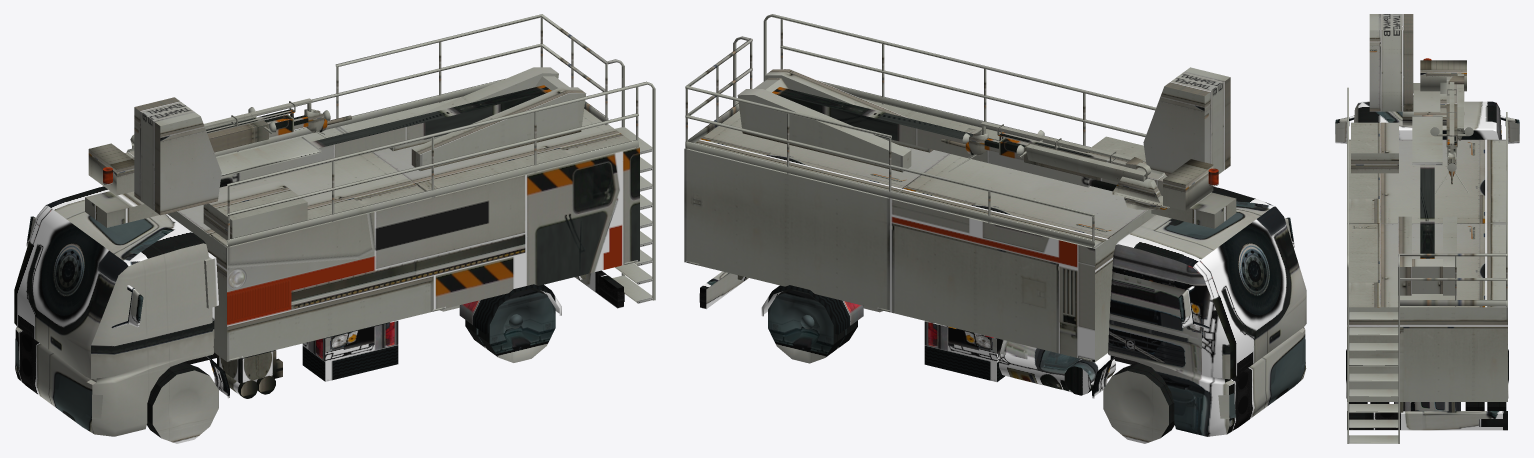
Rendered from volvo_deicing_truck.glb.
3 renders of one model, left to right at view 1: azimuth 30°, elevation 25°; view 2: azimuth 150°, elevation 25°; view 3: azimuth 270°, elevation 25°, orthographic. The views are drawn at different scales.
Parts seen in each view (by area): view 1: Cube.005, Cube.003, Cube.030, lift_06, Cube.017, lift_01, Cylinder.008, Cube.015, Cube.029, Cylinder.001, Cube.032, lift_09 (+11 smaller); view 2: Cube.005, Cube.003, Cube.030, Cube.017, lift_06, lift_01, Cylinder.008, Cylinder.001, Cube.007, lift_arm_01, Cylinder.006, lift_arm_02 (+9 smaller); view 3: Cube.005, lift_06, Cube.032, Cube.017, Cube.030, Cube.029, Cube.006, Cube.003, lift_09, lift_01, lift_05, lift_arm_01 (+10 smaller).
Part boxes in pixels (bbox=[...]): Cube.005: bbox=[167, 96, 639, 361]; Cube.003: bbox=[14, 186, 213, 436]; Cube.030: bbox=[131, 14, 655, 300]; lift_06: bbox=[134, 97, 221, 215]; Cube.017: bbox=[389, 67, 586, 170]; lift_01: bbox=[232, 85, 551, 186]; Cylinder.008: bbox=[147, 362, 218, 443]; Cube.015: bbox=[302, 320, 398, 381]; Cube.029: bbox=[203, 181, 307, 240]; Cylinder.001: bbox=[478, 288, 555, 362]; Cube.032: bbox=[612, 127, 652, 303]; lift_09: bbox=[216, 137, 321, 177]; Cube.005: bbox=[684, 98, 1154, 362]; Cube.003: bbox=[1108, 186, 1306, 436]; Cube.030: bbox=[685, 14, 1155, 247]; Cube.017: bbox=[737, 69, 933, 172]; lift_06: bbox=[1143, 67, 1230, 175]; lift_01: bbox=[772, 87, 1089, 187]; Cylinder.008: bbox=[1103, 362, 1174, 443]; Cylinder.001: bbox=[768, 288, 845, 363]; Cube.007: bbox=[924, 321, 1004, 381]; lift_arm_01: bbox=[1016, 130, 1167, 195]; Cylinder.006: bbox=[999, 340, 1080, 392]; lift_arm_02: bbox=[997, 124, 1151, 176]; Cube.005: bbox=[1347, 139, 1507, 401]; lift_06: bbox=[1369, 14, 1413, 111]; Cube.032: bbox=[1349, 312, 1398, 443]; Cube.017: bbox=[1398, 216, 1456, 295]; Cube.030: bbox=[1347, 87, 1507, 443]; Cube.029: bbox=[1351, 122, 1398, 173]; Cube.006: bbox=[1347, 411, 1507, 430]; Cube.003: bbox=[1354, 101, 1501, 139]; lift_09: bbox=[1412, 116, 1442, 165]; lift_01: bbox=[1420, 165, 1434, 258]; lift_05: bbox=[1420, 60, 1466, 91]; lift_arm_01: bbox=[1433, 77, 1472, 147].
Bounding box in the file's own units: 9.43 × 5.04 × 3.26.
3 materials, 3 textured.
